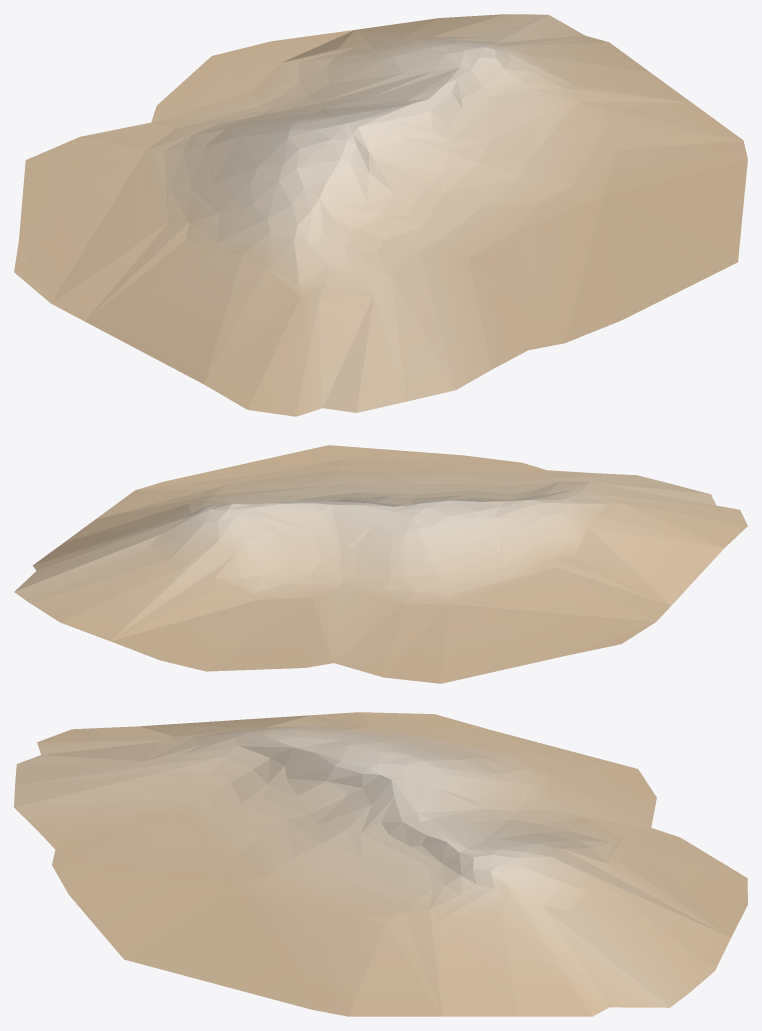
File: SandHill.fbx
The picture shows the model from 3 angles, top to bottom: view 1: azimuth 30°, elevation 25°; view 2: azimuth 150°, elevation 25°; view 3: azimuth 270°, elevation 25°; orthographic projection. The views are drawn at different scales.
Parts seen in each view (by area): view 1: SandHill; view 2: SandHill; view 3: SandHill.
Boxes of the visible parts, bbox=[...] form: SandHill: bbox=[14, 14, 747, 416]; SandHill: bbox=[14, 445, 747, 683]; SandHill: bbox=[14, 712, 747, 1016].
Bounding box in the file's own units: 50.9 × 6.07 × 51.83.
